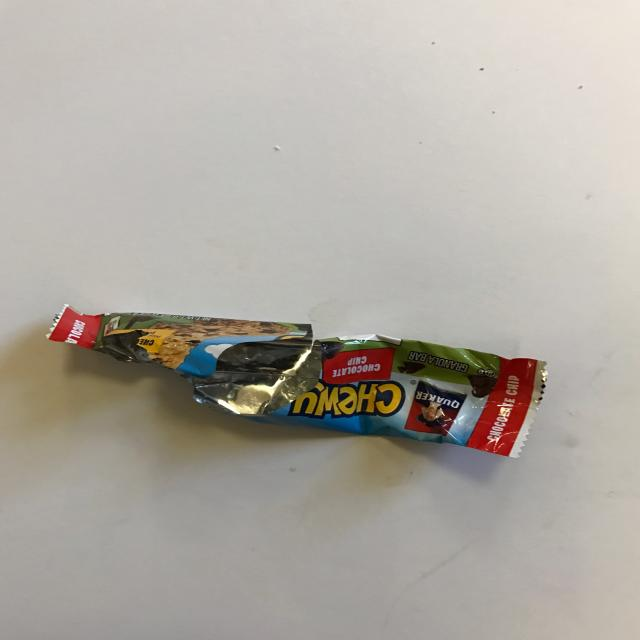trash: (46, 303, 548, 459)
